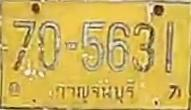0: (37, 20, 61, 70)
1: (164, 21, 174, 72)
3: (132, 22, 154, 72)
5: (80, 20, 105, 71)
6: (105, 21, 130, 71)
7: (12, 20, 35, 70)
KRI: (51, 79, 136, 104)
